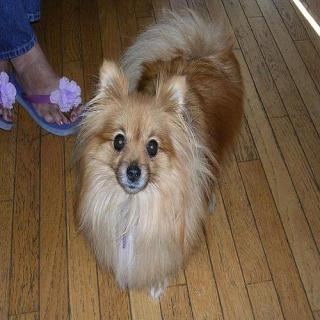dog: (82, 61, 194, 238)
nose: (125, 162, 144, 184)
